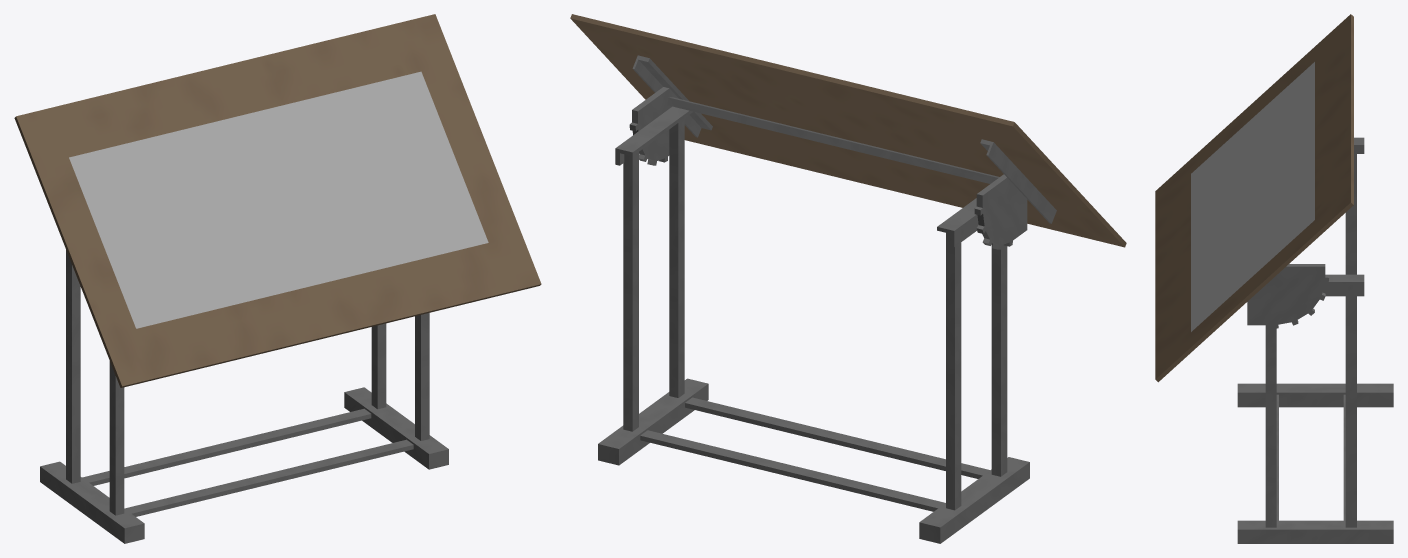
Rendered from BlueprintStand.fbx.
3 renders of one model, left to right at view 1: azimuth 30°, elevation 25°; view 2: azimuth 150°, elevation 25°; view 3: azimuth 270°, elevation 25°, orthographic. The views are drawn at different scales.
Visible parts, largest first — view 1: Cube.128; view 2: Cube.128; view 3: Cube.128.
Boxes of the visible parts, <box> form: Cube.128: <box>14,14,541,543</box>; Cube.128: <box>570,14,1126,543</box>; Cube.128: <box>1155,14,1393,543</box>.
Bounding box in the file's own units: 294 × 264 × 157.
